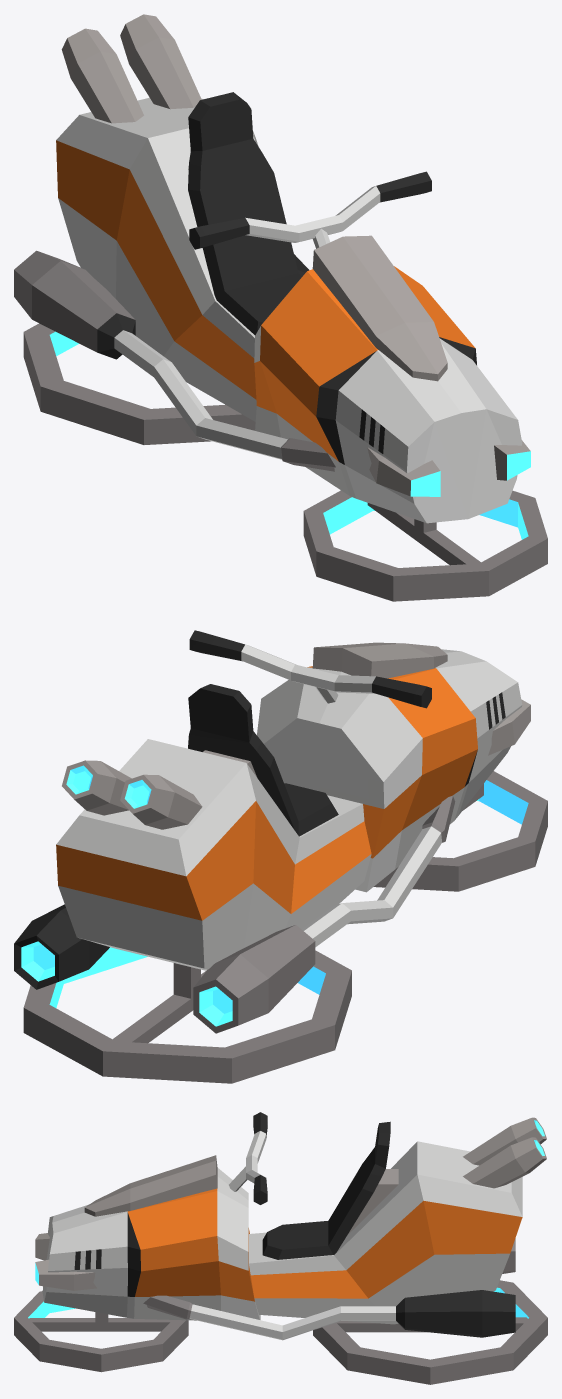
File: scifi_scifi-hoover.fbx
The picture shows the model from 3 angles, top to bottom: view 1: azimuth 30°, elevation 25°; view 2: azimuth 150°, elevation 25°; view 3: azimuth 270°, elevation 25°; orthographic projection. The views are drawn at different scales.
Visible parts, largest first — view 1: scifi_scifi_hoover; view 2: scifi_scifi_hoover; view 3: scifi_scifi_hoover.
Boxes of the visible parts, <box> form: scifi_scifi_hoover: <box>14,14,547,601</box>; scifi_scifi_hoover: <box>14,630,547,1083</box>; scifi_scifi_hoover: <box>14,1112,547,1384</box>.
Bounding box in the file's own units: 88.04 × 85.92 × 200.
